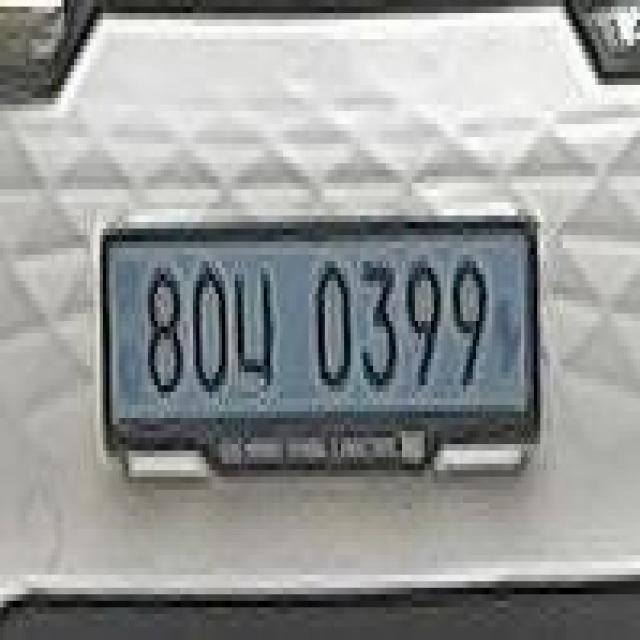EV_plate: (95, 191, 546, 498)
